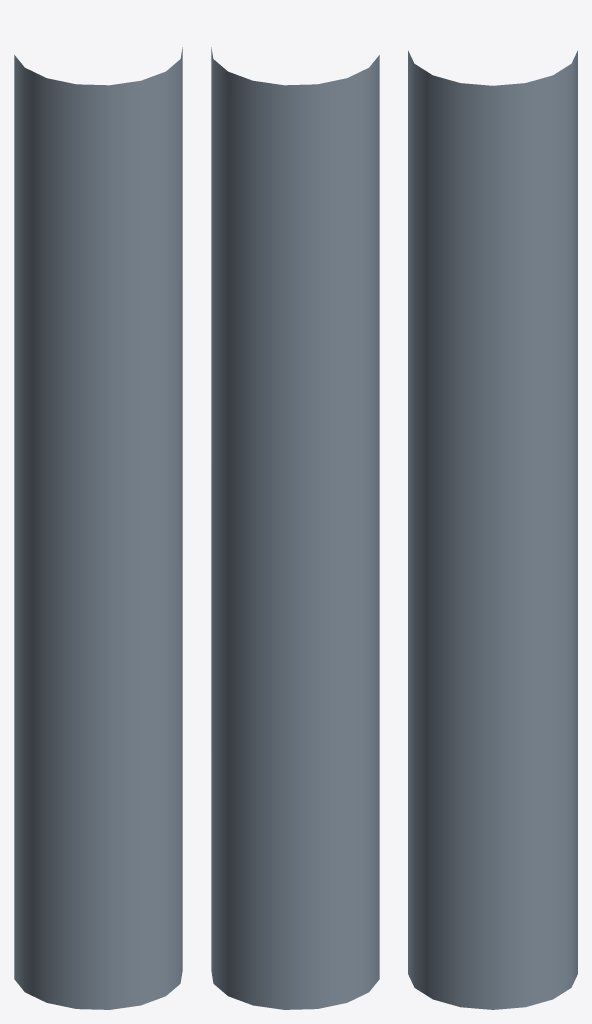
Rendered from PIllar0_5x3Rnd.gltf.
3 renders of one model, left to right at view 1: azimuth 30°, elevation 25°; view 2: azimuth 150°, elevation 25°; view 3: azimuth 270°, elevation 25°, orthographic.
Visible parts, largest first — view 1: PIllar0_5x3RndShape; view 2: PIllar0_5x3RndShape; view 3: PIllar0_5x3RndShape.
Boxes of the visible parts, x1,y1,x2,y2 form: PIllar0_5x3RndShape: (14,47,182,1009); PIllar0_5x3RndShape: (211,47,379,1009); PIllar0_5x3RndShape: (408,50,577,1009).
Size of the model in its own units: 50 by 300 by 50.
1 material, 1 textured.
